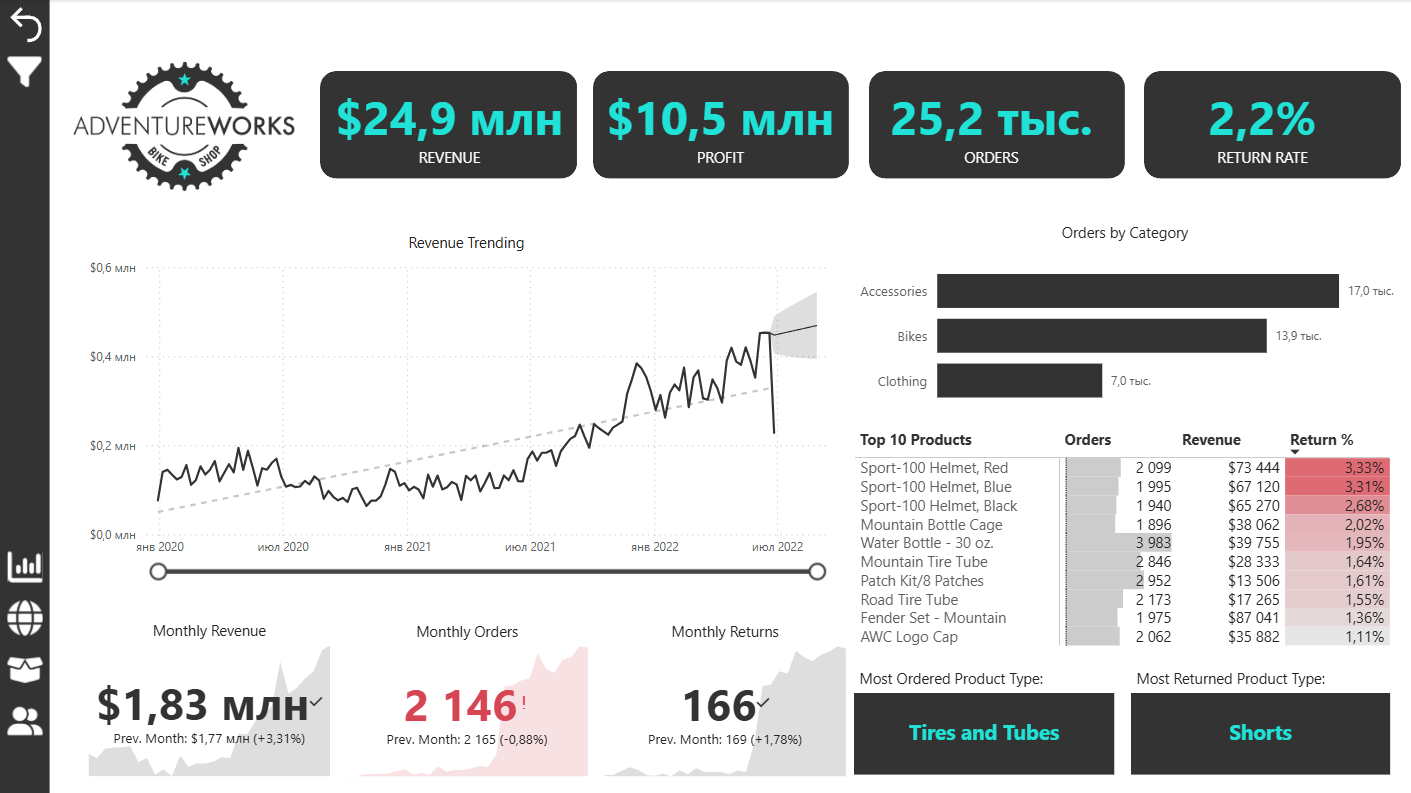

The dashboard page shown, as its layout file describes it:
{"tool":"powerbi","page":{"name":"Exec Dashboard","canvas":[1280,720],"ordinal":0},"visuals":[{"type":"image","title":"AW Logo","box":[44.4,0,245.6,231.1],"z":0},{"type":"card","fields":{"Values":["Measure Table.Total Revenue"]},"box":[281,62,252.9,106.3],"z":0,"group":"g2"},{"type":"group","id":"g1","title":"KPI Backgrounds","box":[290.2,65.3,980.7,97.6],"z":0,"group":"g3"},{"type":"shape","box":[290.2,65.3,233.4,97.6],"z":0,"group":"g1"},{"type":"actionButton","box":[2.4,541.4,54.1,40],"z":0,"group":"g4"},{"type":"shape","title":"Left Nav Background","box":[0,0,45,720],"z":1000},{"type":"group","id":"g2","title":"KPI Values","box":[281,62,989.9,106.3],"z":1000,"group":"g3"},{"type":"card","fields":{"Values":["Measure Table.Total Profit"]},"box":[526.6,62,252.9,106.3],"z":1000,"group":"g2"},{"type":"shape","box":[537.9,65.3,232.2,97.6],"z":1000,"group":"g1"},{"type":"actionButton","box":[2.4,587.9,54.1,40],"z":1000,"group":"g4"},{"type":"group","id":"g3","title":"KPIs","box":[281,62,989.9,106.3],"z":2000},{"type":"card","fields":{"Values":["Measure Table.Total Orders"]},"box":[772.3,62,252.9,106.3],"z":2000,"group":"g2"},{"type":"shape","box":[787.7,65.3,232.2,97.6],"z":2000,"group":"g1"},{"type":"actionButton","box":[2.4,494.8,54.1,40],"z":2000,"group":"g4"},{"type":"card","fields":{"Values":["Measure Table.Return Rate"]},"box":[1017.9,62,252.9,106.3],"z":3000,"group":"g2"},{"type":"shape","box":[1037.5,65.3,233.4,97.6],"z":3000,"group":"g1"},{"type":"lineChart","title":"Revenue Trending","fields":{"Y":["Measure Table.Total Revenue"],"Category":["Calendar Lookup.Date Hierarchy.Start of Year","Calendar Lookup.Date Hierarchy.Start of Month","Calendar Lookup.Date Hierarchy.Start of Week","Calendar Lookup.Date Hierarchy.Date"]},"box":[76.4,212.6,693.5,318.3],"z":3000},{"type":"actionButton","box":[2.4,634.5,54.1,40],"z":3000,"group":"g4"},{"type":"kpi","title":"Monthly Revenue","fields":{"Indicator":["Measure Table.Total Revenue"],"TrendLine":["Calendar Lookup.Start of Month"],"Goal":["Measure Table.Previous Month Revenue"]},"box":[75.2,564.2,229.2,145.7],"z":4000},{"type":"kpi","title":"Monthly Orders","fields":{"TrendLine":["Calendar Lookup.Start of Month"],"Indicator":["Measure Table.Total Orders"],"Goal":["Measure Table.Previous Month Orders"]},"box":[309.5,564.5,228.8,145.2],"z":5000},{"type":"kpi","title":"Monthly Returns","fields":{"TrendLine":["Calendar Lookup.Start of Month"],"Indicator":["Measure Table.Total Returns"],"Goal":["Measure Table.Previous Month Returns"]},"box":[543.6,564.5,228.8,145.2],"z":6000},{"type":"clusteredBarChart","title":"Orders by Category","fields":{"Category":["Product Categories Lookup.CategoryName"],"Y":["Measure Table.Total Orders"]},"box":[770.1,203.3,500.6,181.2],"z":7000},{"type":"pivotTable","fields":{"Rows":["Product Lookup.ProductName"],"Values":["Measure Table.Total Orders","Measure Table.Total Revenue","Measure Table.Return Rate"]},"box":[769.9,385,510.1,216.8],"z":8000},{"type":"card","fields":{"Values":["Min(Product Subcategories Lookup.SubcategoryName)"]},"box":[774.7,629.5,235.8,74.3],"z":9000},{"type":"textbox","box":[774.1,601.8,179.3,27.8],"z":10000},{"type":"card","fields":{"Values":["Min(Product Subcategories Lookup.SubcategoryName)"]},"box":[1025.6,629.5,234.6,74.3],"z":11000},{"type":"textbox","box":[1025.7,601.8,182.1,27.8],"z":12000},{"type":"actionButton","box":[2.8,0,42.3,46.5],"z":13000},{"type":"group","id":"g4","title":"Nav. Buttons","box":[2.4,494.8,54.1,179.7],"z":14000},{"type":"actionButton","box":[2.8,46.5,45.1,39.5],"z":15000}]}

Visuals, with their boxes on the page's 1280x720 design canvas (x1, y1, x2, y2). These are canvas units, not pixel positions in the 1411x793 screenshot, which may show the page scaled, cropped or inside an application window:
"AW Logo" image: 44,0,290,231
card - Measure Table.Total Revenue: 281,62,534,168
"KPI Backgrounds" group: 290,65,1271,163
shape: 290,65,524,163
actionButton: 2,541,56,581
"Left Nav Background" shape: 0,0,45,720
"KPI Values" group: 281,62,1271,168
card - Measure Table.Total Profit: 527,62,780,168
shape: 538,65,770,163
actionButton: 2,588,56,628
"KPIs" group: 281,62,1271,168
card - Measure Table.Total Orders: 772,62,1025,168
shape: 788,65,1020,163
actionButton: 2,495,56,535
card - Measure Table.Return Rate: 1018,62,1271,168
shape: 1038,65,1271,163
"Revenue Trending" lineChart: 76,213,770,531
actionButton: 2,634,56,674
"Monthly Revenue" kpi: 75,564,304,710
"Monthly Orders" kpi: 310,564,538,710
"Monthly Returns" kpi: 544,564,772,710
"Orders by Category" clusteredBarChart: 770,203,1271,384
pivotTable - Product Lookup.ProductName x Measure Table.Total Orders: 770,385,1280,602
card - Min(Product Subcategories Lookup.SubcategoryName): 775,630,1010,704
textbox: 774,602,953,630
card - Min(Product Subcategories Lookup.SubcategoryName): 1026,630,1260,704
textbox: 1026,602,1208,630
actionButton: 3,0,45,46
"Nav. Buttons" group: 2,495,56,674
actionButton: 3,46,48,86
